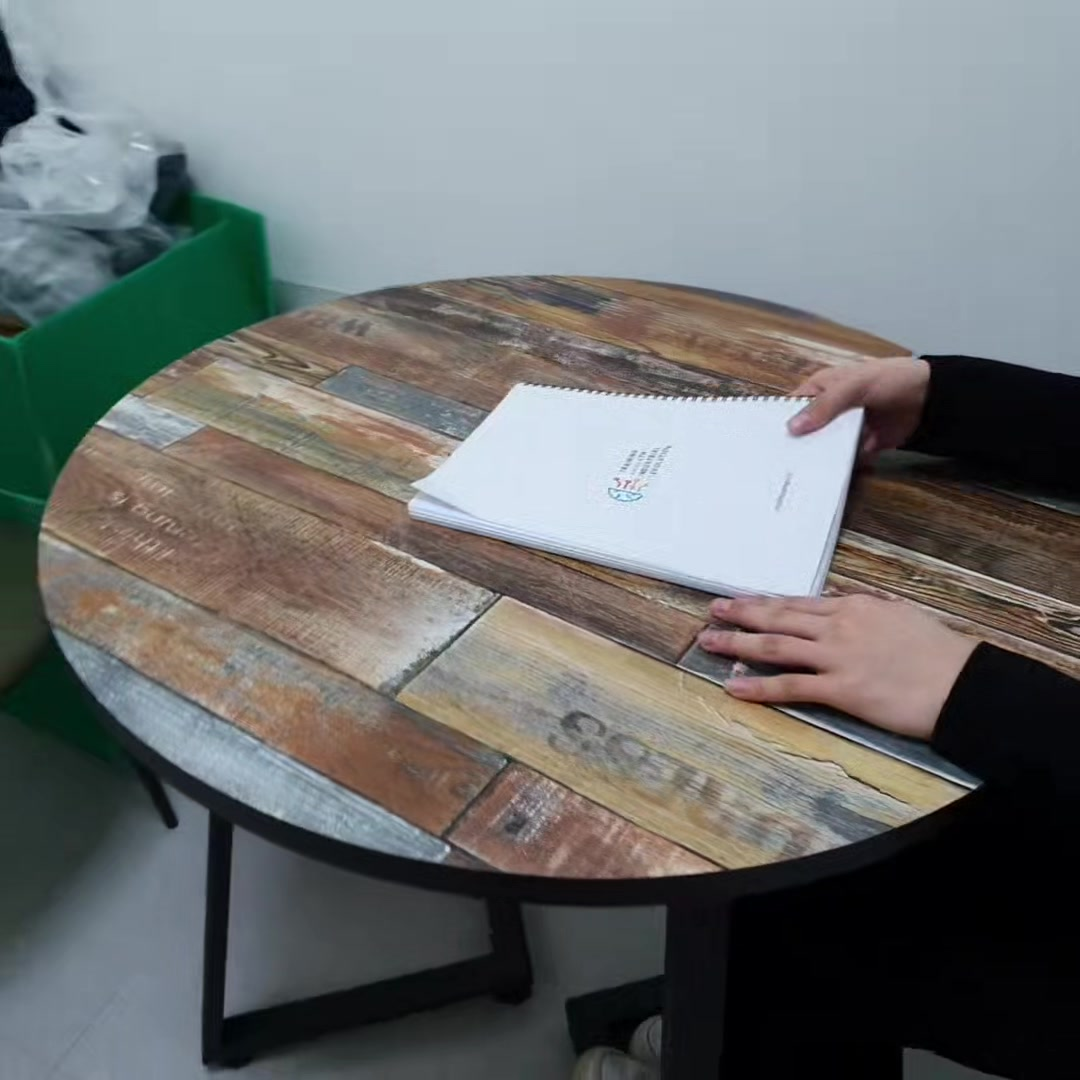book: (406, 388, 871, 594)
